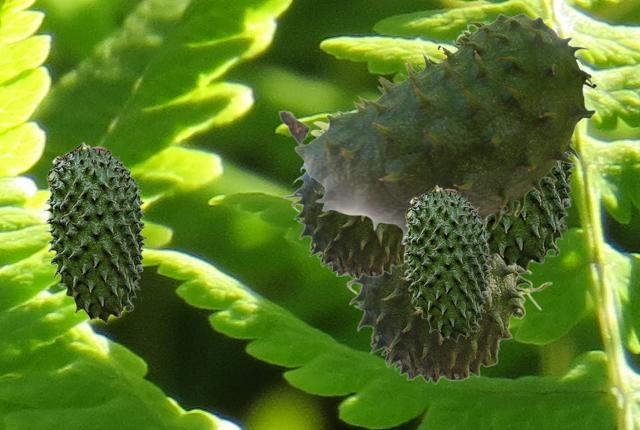guyabano: (278, 13, 596, 243), (335, 248, 552, 384), (283, 120, 407, 279), (43, 141, 147, 323), (402, 184, 491, 341), (485, 134, 576, 271)
